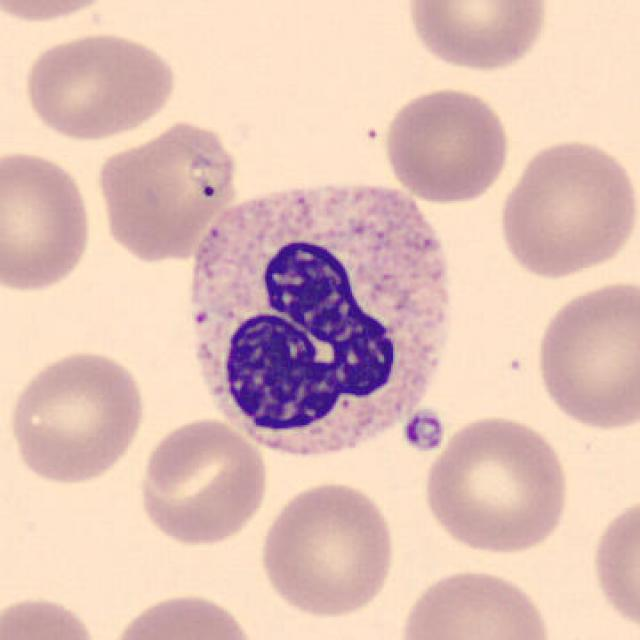Neutrophil: (172, 169, 466, 478)
Platelets: (400, 407, 446, 453)
RBC: (420, 411, 574, 557), (92, 116, 242, 264), (254, 476, 400, 621), (494, 134, 638, 280), (4, 346, 150, 488), (19, 26, 180, 143), (133, 414, 272, 548), (532, 275, 638, 434), (380, 83, 512, 206), (0, 146, 96, 294), (395, 564, 558, 640), (402, 0, 554, 74), (105, 587, 261, 640), (587, 488, 638, 638), (0, 590, 105, 640), (0, 0, 124, 26)
